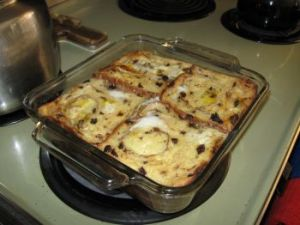cheese: (92, 85, 207, 157)
